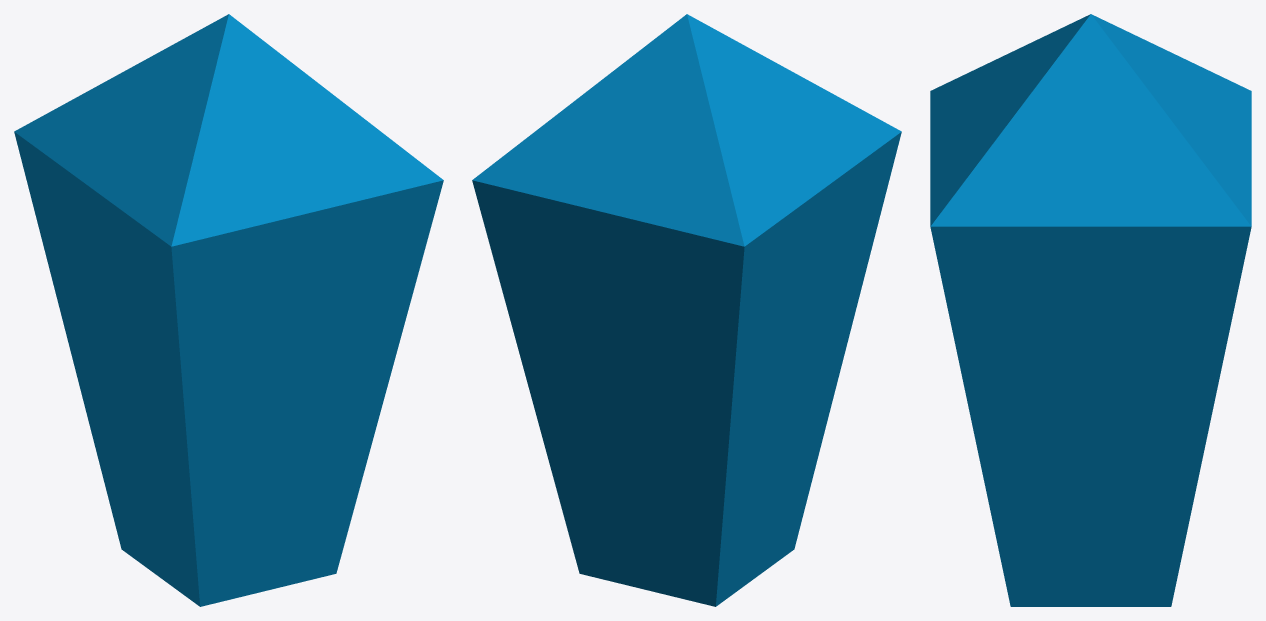
File: IceCrystal.fbx
3 renders of one model, left to right at view 1: azimuth 30°, elevation 25°; view 2: azimuth 150°, elevation 25°; view 3: azimuth 270°, elevation 25°, orthographic. The views are drawn at different scales.
Parts seen in each view (by area): view 1: IceCrystal; view 2: IceCrystal; view 3: IceCrystal.
Part boxes in pixels (x1=…): IceCrystal: x1=14, y1=14, x2=443, y2=606; IceCrystal: x1=472, y1=14, x2=901, y2=606; IceCrystal: x1=930, y1=14, x2=1251, y2=606.
Size of the model in its own units: 17.4 by 17.4 by 33.42.
